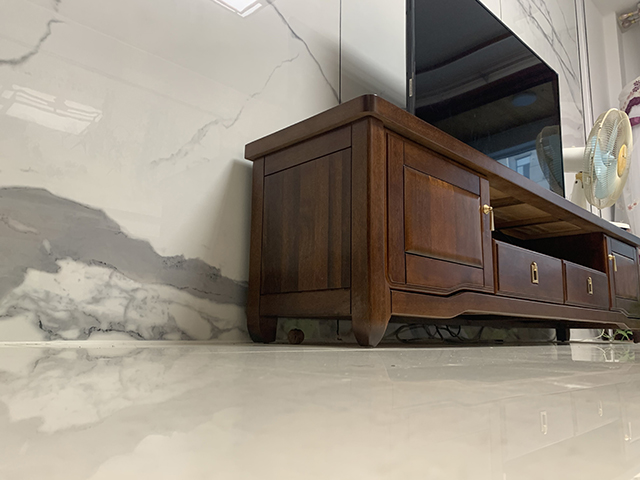cabinet: (243, 93, 640, 350)
